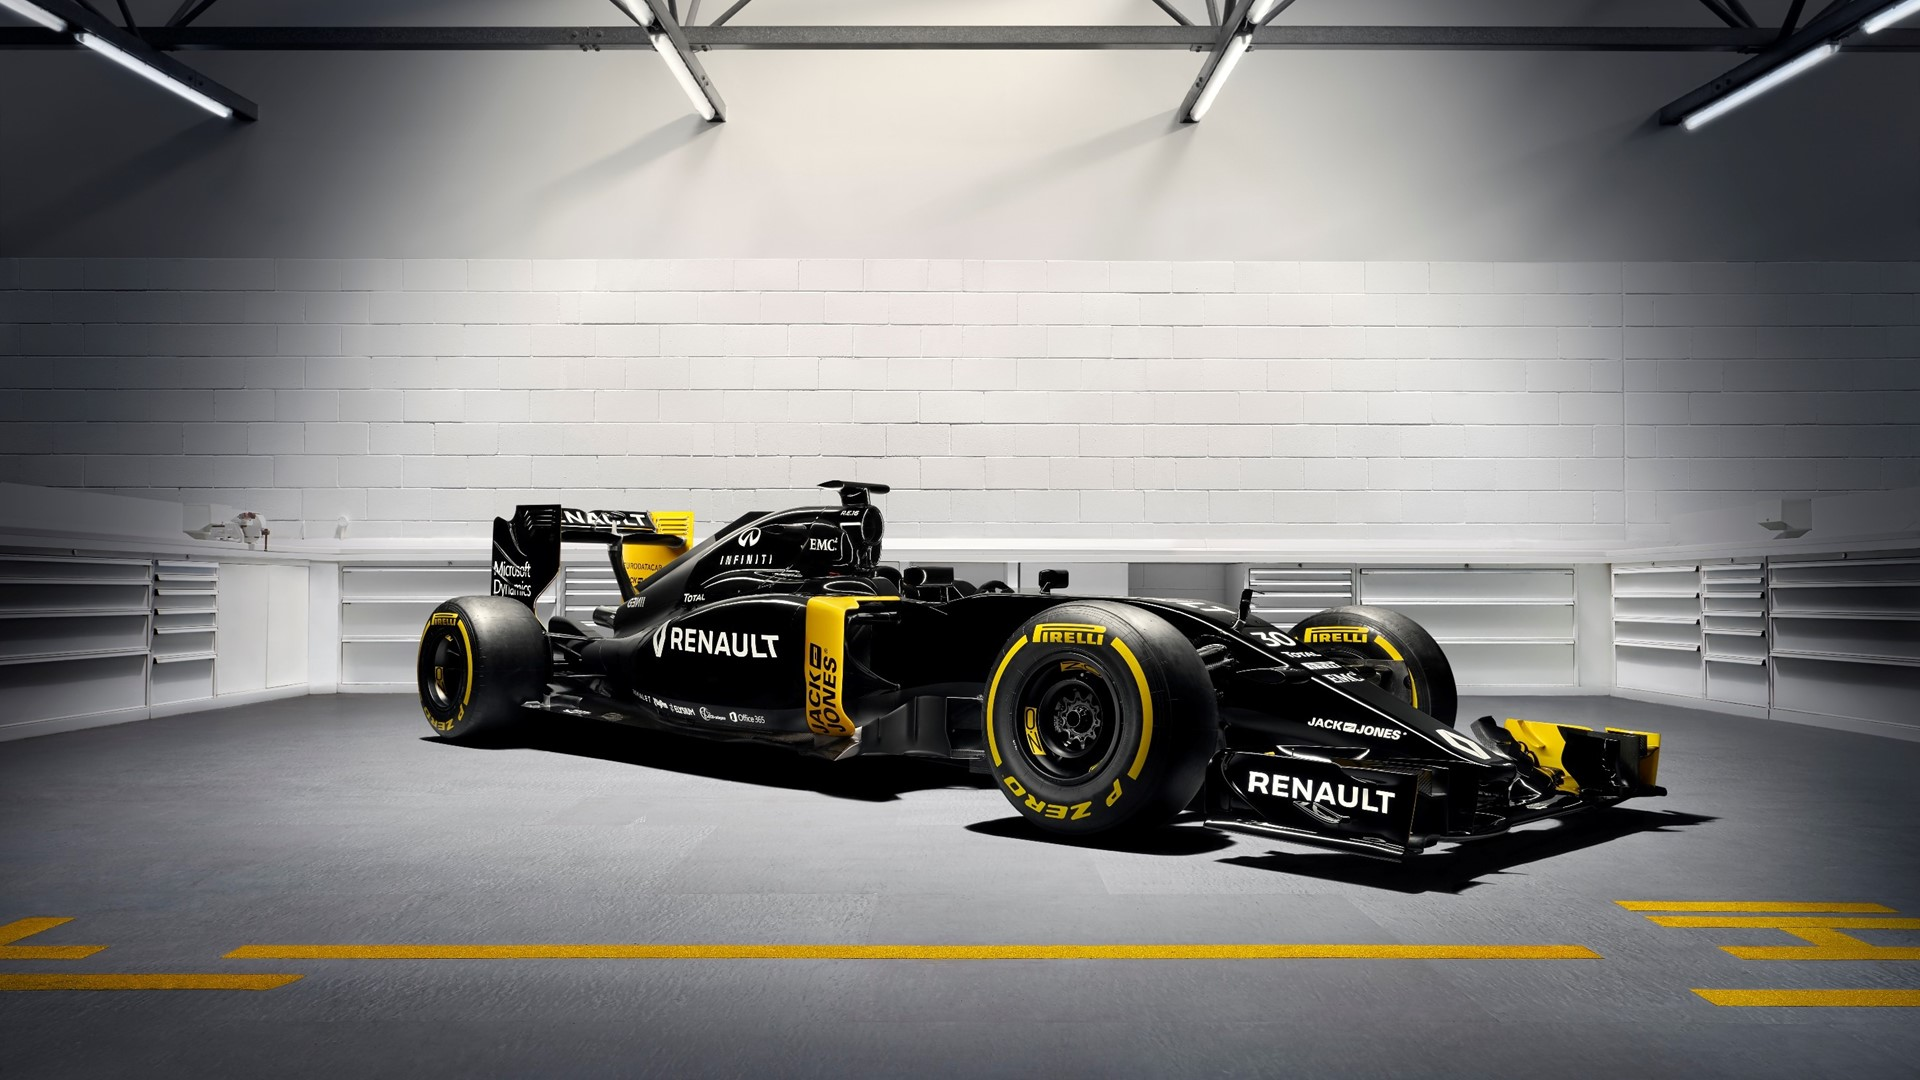f1_car: (382, 459, 1706, 924)
